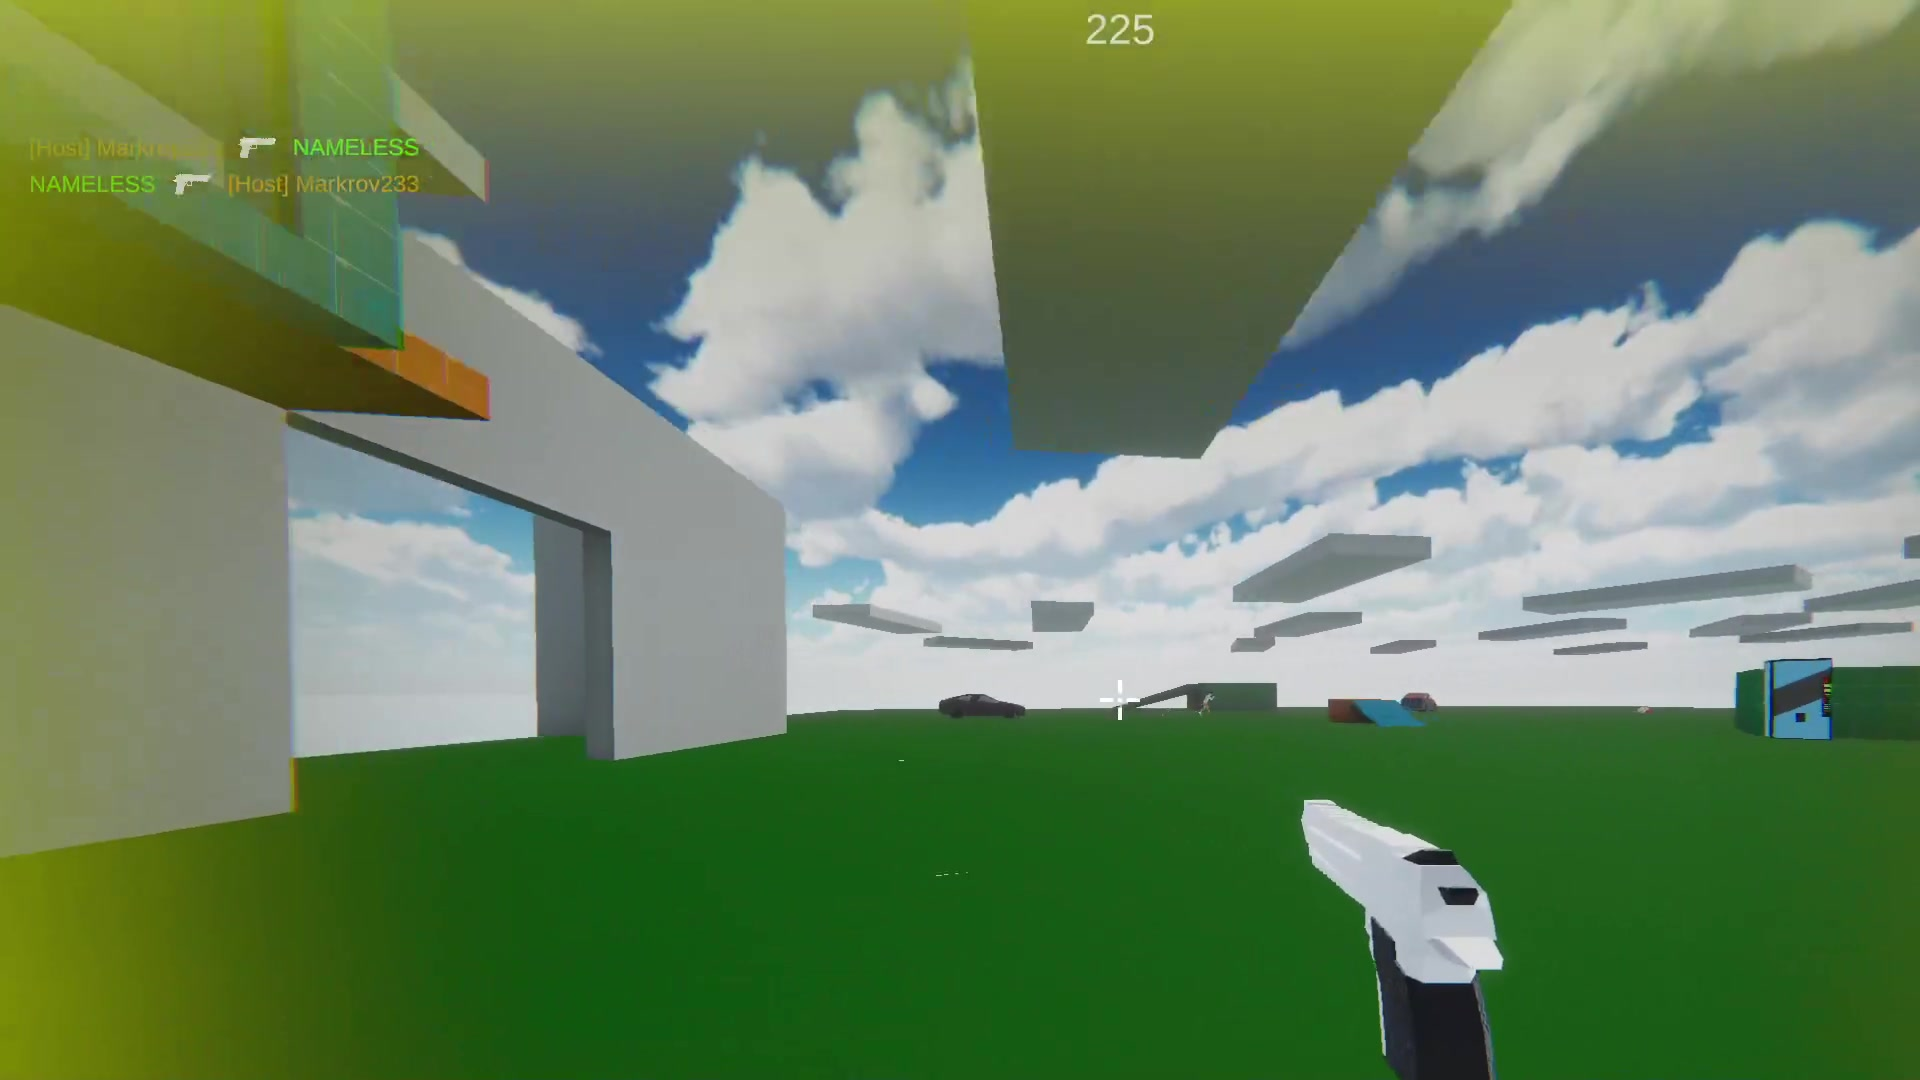human: (1199, 683, 1216, 719)
